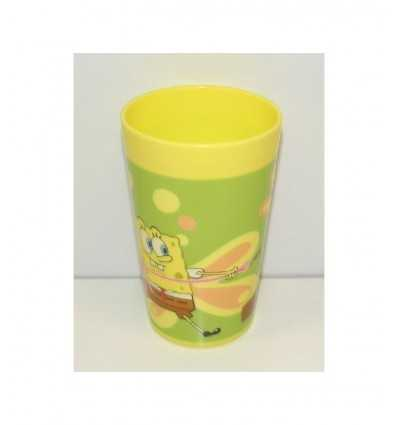plastic_glass: (116, 80, 289, 357)
